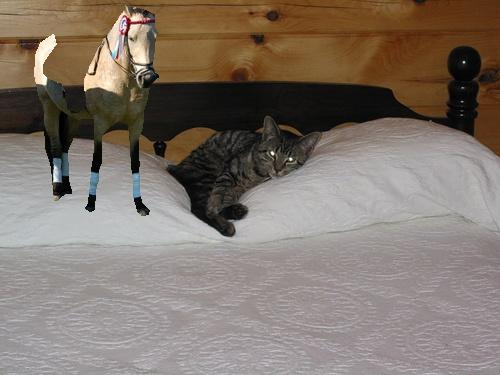tampered: (35, 6, 159, 216)
